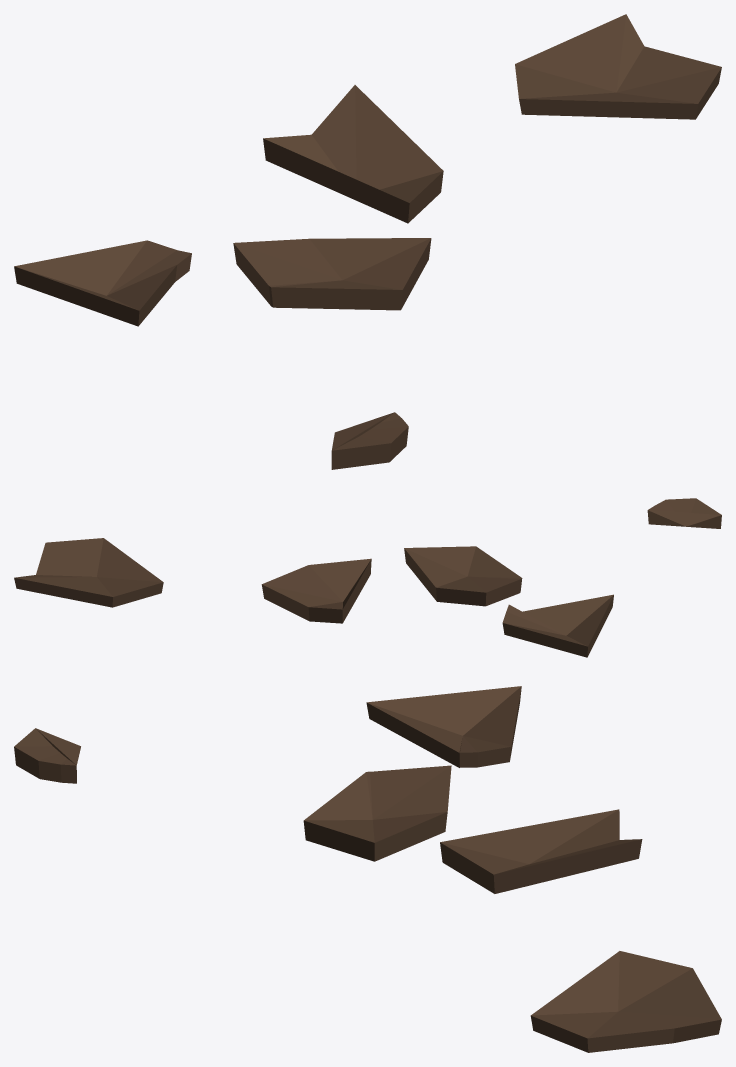
File: desert_debris_1.glb
3 renders of one model, top to bottom at view 1: azimuth 30°, elevation 25°; view 2: azimuth 150°, elevation 25°; view 3: azimuth 270°, elevation 25°, orthographic. The views are drawn at different scales.
Parts seen in each view (by area): view 1: DesertDebris_Plates; view 2: DesertDebris_Plates; view 3: DesertDebris_Plates.
Part boxes in pixels (box(x1,y1,x2,y2)): DesertDebris_Plates: box(14, 14, 721, 469); DesertDebris_Plates: box(14, 498, 721, 657); DesertDebris_Plates: box(14, 686, 721, 1052).
Size of what is drawn, in the model's own units: 1.18 by 0.1061 by 1.02.
